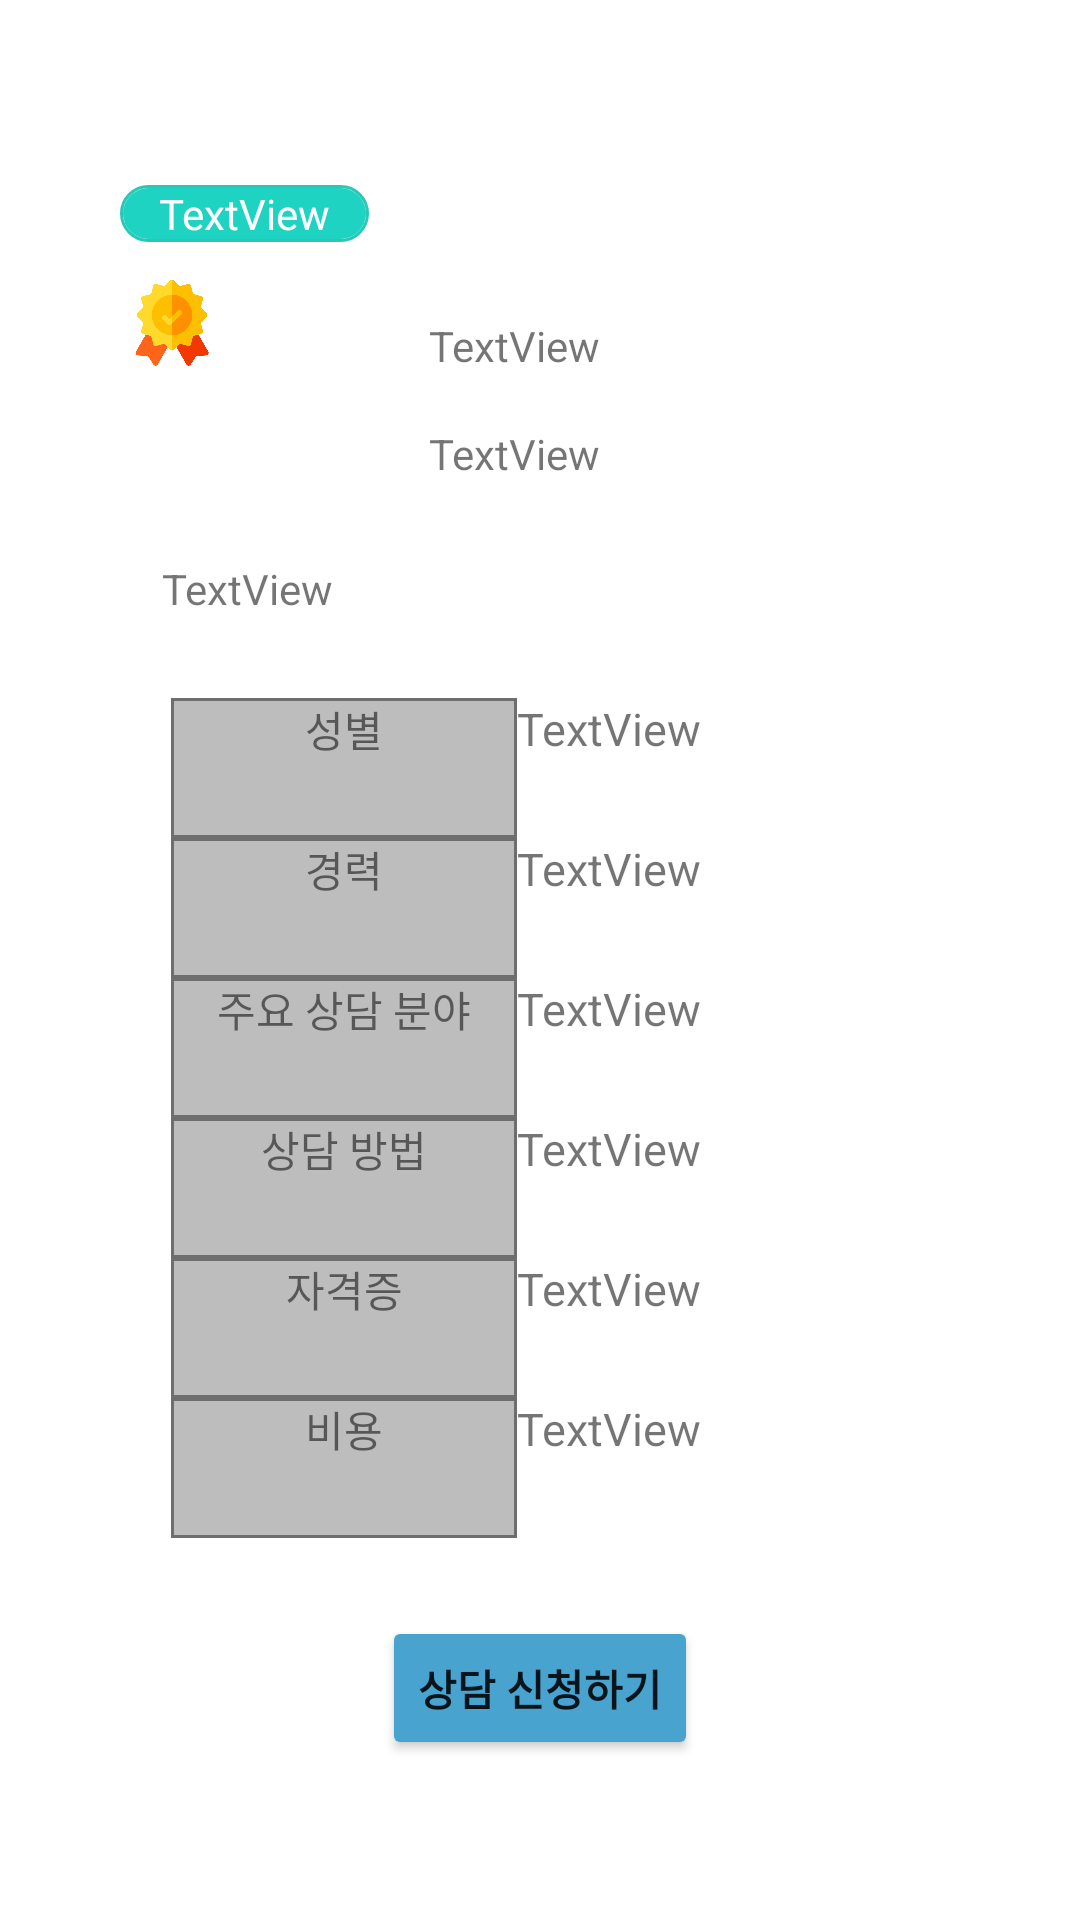

Icons on this 1080x1920 Android screen, each with its box as region(x1, y1, x2, y2):
profile check custom: region(136, 280, 209, 366)
